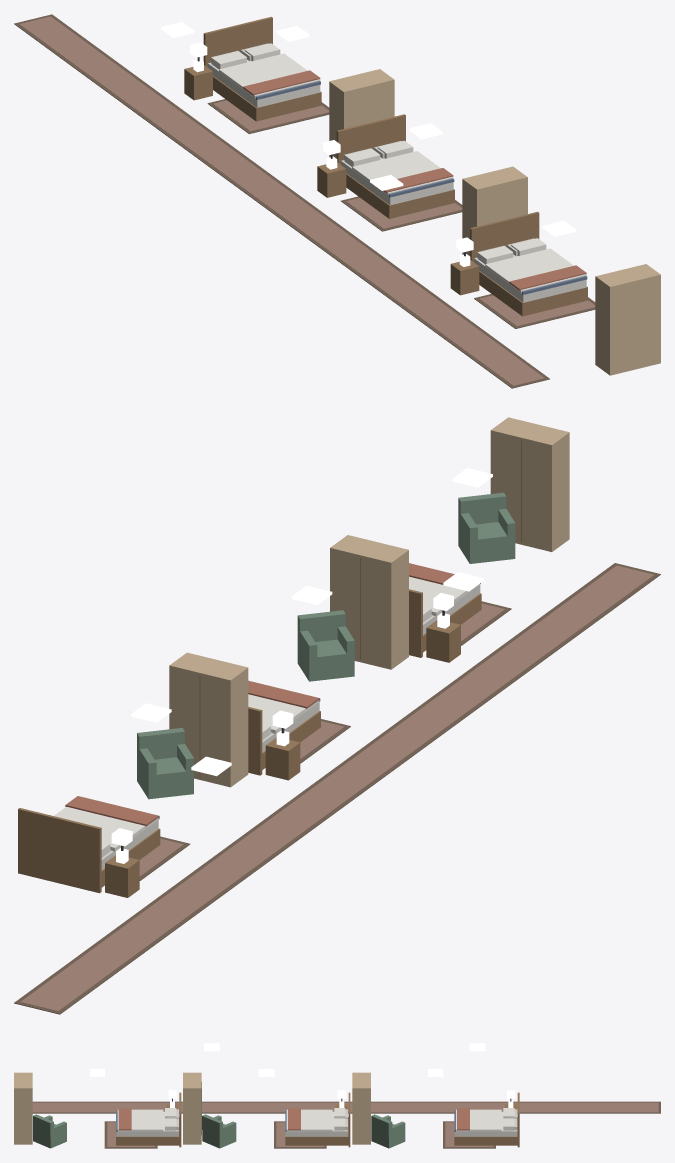
The model's file is fine-s3.glb.
3 views of the same model, one above another, from view 1: azimuth 30°, elevation 25°; view 2: azimuth 150°, elevation 25°; view 3: azimuth 270°, elevation 25° (orthographic). The views are drawn at different scales.
Visible parts, largest first — view 1: soft-s3, dresser.008, bed-frame.008, bed-frame.007, bed-frame.006, dresser.007, dresser.006, nightstand.007, nightstand.008, nightstand.006; view 2: soft-s3, dresser.008, dresser.007, dresser.006, bed-frame.006, lounge-chair.007, lounge-chair.008, lounge-chair.006, bed-frame.007, bed-frame.008, nightstand.007, nightstand.008 (+1 smaller); view 3: soft-s3, dresser.006, dresser.007, dresser.008, bed-frame.008, bed-frame.006, bed-frame.007, lounge-chair.006, lounge-chair.007, lounge-chair.008.
Boxes of the visible parts, x1,y1,x2,y2 form: soft-s3: (14, 14, 595, 388); dresser.008: (595, 264, 660, 375); bed-frame.008: (470, 211, 587, 316); bed-frame.007: (336, 114, 454, 218); bed-frame.006: (203, 16, 321, 121); dresser.007: (462, 166, 527, 255); dresser.006: (329, 69, 394, 158); nightstand.007: (317, 156, 346, 197); nightstand.008: (450, 254, 479, 295); nightstand.006: (184, 59, 212, 100); soft-s3: (14, 563, 660, 1014); dresser.008: (490, 417, 569, 551); dresser.007: (330, 535, 408, 669); dresser.006: (169, 652, 248, 787); bed-frame.006: (18, 808, 160, 893); lounge-chair.007: (297, 610, 354, 681); lounge-chair.008: (458, 492, 515, 563); lounge-chair.006: (137, 728, 193, 799); bed-frame.007: (248, 698, 320, 775); bed-frame.008: (409, 583, 481, 657); nightstand.007: (265, 730, 300, 780); nightstand.008: (426, 613, 460, 662); soft-s3: (32, 1090, 660, 1148); dresser.006: (352, 1072, 370, 1144); dresser.007: (183, 1072, 201, 1144); dresser.008: (14, 1072, 32, 1144); bed-frame.008: (116, 1092, 181, 1147); bed-frame.006: (454, 1092, 519, 1147); bed-frame.007: (285, 1092, 350, 1147); lounge-chair.006: (371, 1114, 405, 1148); lounge-chair.007: (202, 1114, 236, 1148); lounge-chair.008: (33, 1114, 66, 1148).
Bounding box in the file's own units: 3.55 × 2.18 × 20.82.
